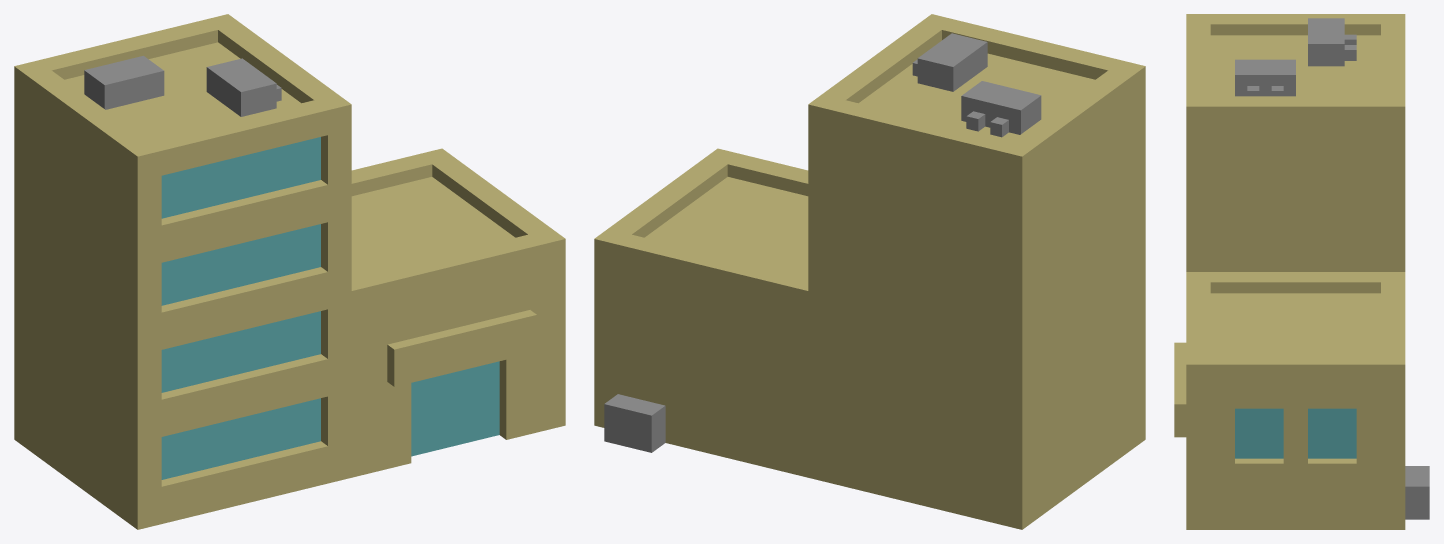
Rendered from Building02.fbx.
3 views of the same model, side by side, from view 1: azimuth 30°, elevation 25°; view 2: azimuth 150°, elevation 25°; view 3: azimuth 270°, elevation 25° (orthographic). The views are drawn at different scales.
Visible parts, largest first — view 1: ObjObject.005; view 2: ObjObject.005; view 3: ObjObject.005.
Part boxes in pixels (x1=…): ObjObject.005: x1=14, y1=14, x2=565, y2=529; ObjObject.005: x1=594, y1=14, x2=1145, y2=529; ObjObject.005: x1=1174, y1=14, x2=1429, y2=529.
Size of the model in its own units: 360 by 210 by 310.
Materials: 1 (1 with a texture image).
